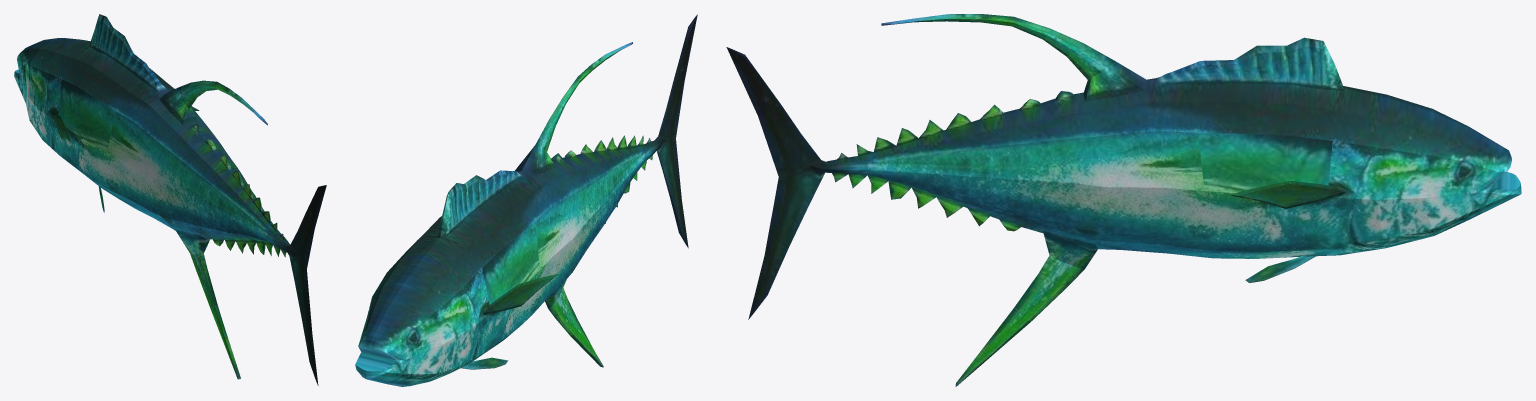
Rendered from thunnus-albacares.glb.
The picture shows the model from 3 angles, left to right: view 1: azimuth 30°, elevation 25°; view 2: azimuth 150°, elevation 25°; view 3: azimuth 270°, elevation 25°; orthographic projection. The views are drawn at different scales.
Parts seen in each view (by area): view 1: thunnus_albacares; view 2: thunnus_albacares; view 3: thunnus_albacares.
Part boxes in pixels (bbox=[...]): thunnus_albacares: bbox=[14, 14, 326, 385]; thunnus_albacares: bbox=[355, 14, 697, 386]; thunnus_albacares: bbox=[726, 14, 1521, 386].
Bounding box in the file's own units: 0.5893 × 1.24 × 2.4.
Materials: 1 (1 with a texture image).
